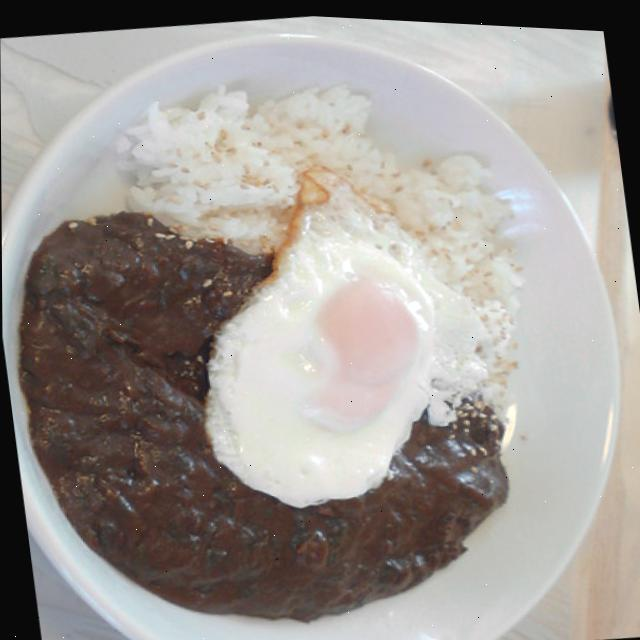牛肉菜式: (0, 0, 604, 640)
鸡蛋料理: (233, 260, 510, 508)
